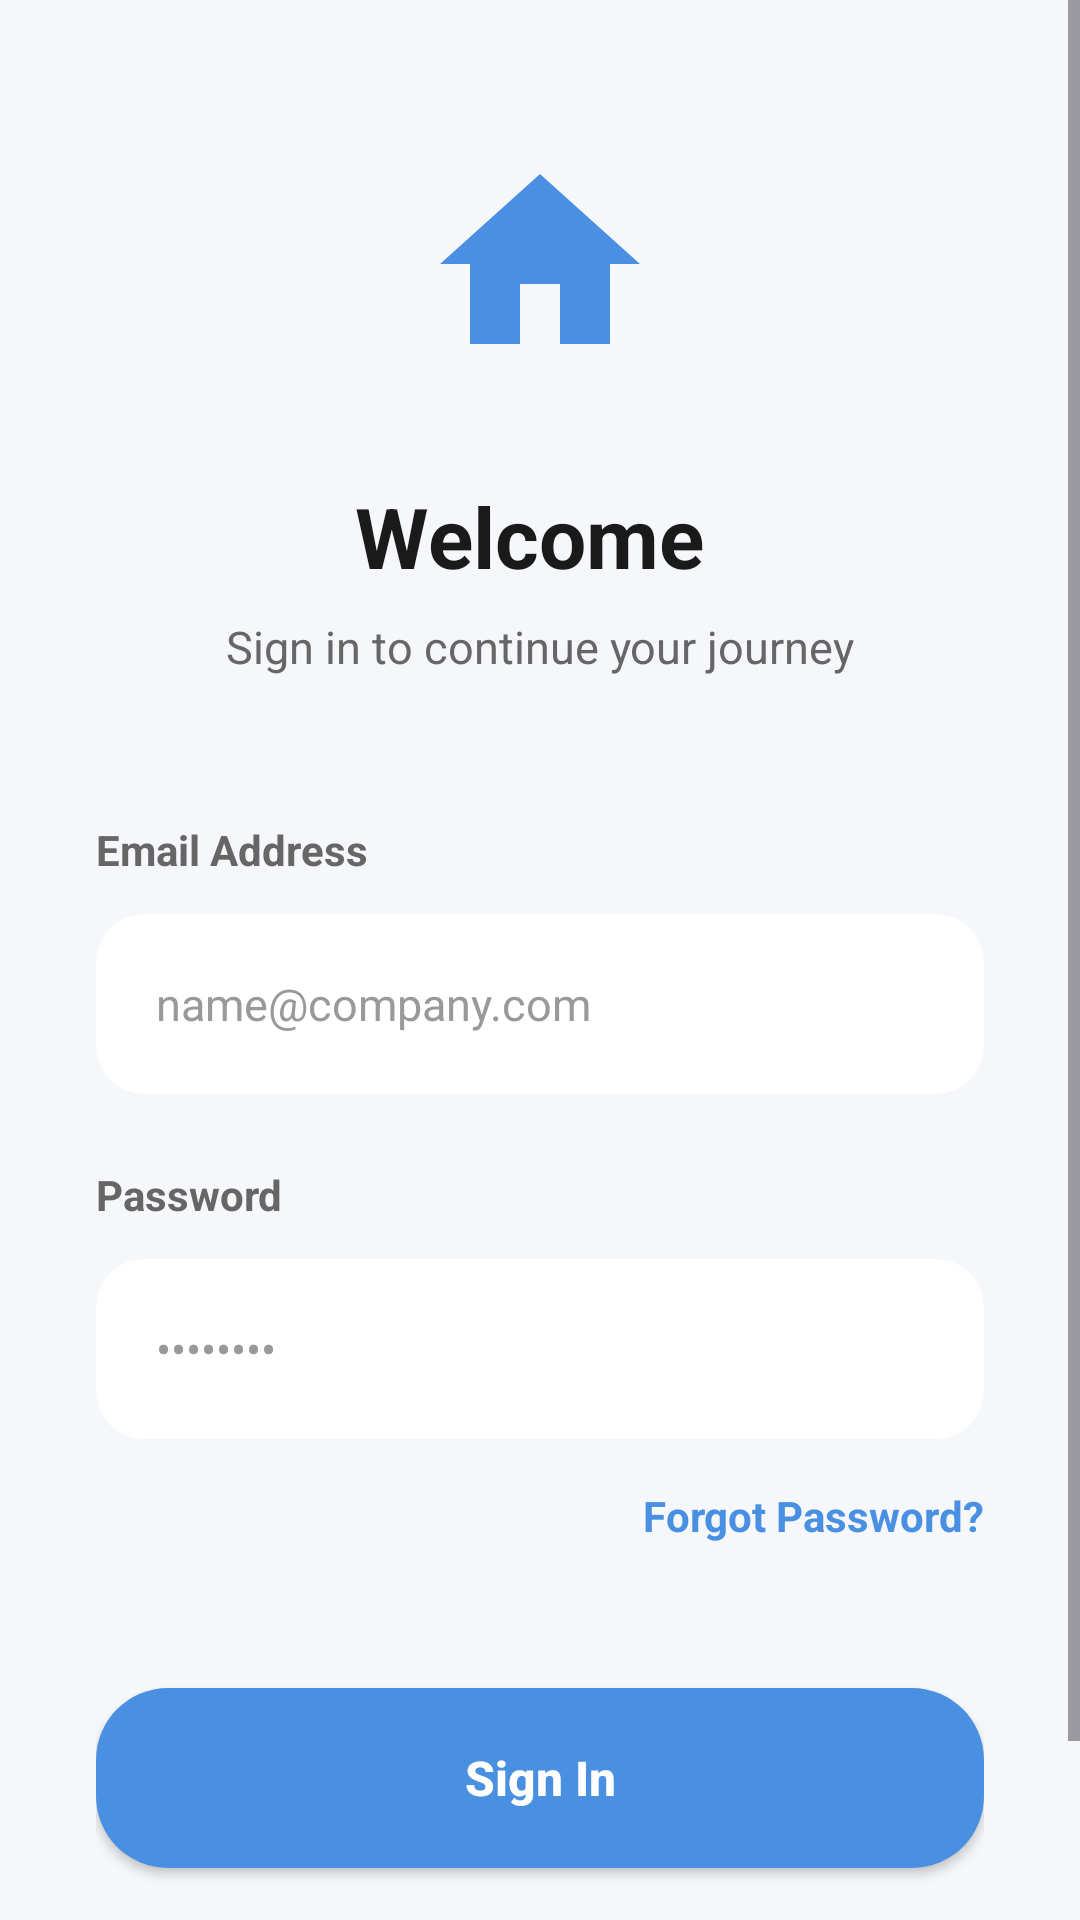

Named icons in this screenshot (1080w x 1920h) and their centers, [x,y]:
home: [540,259]
